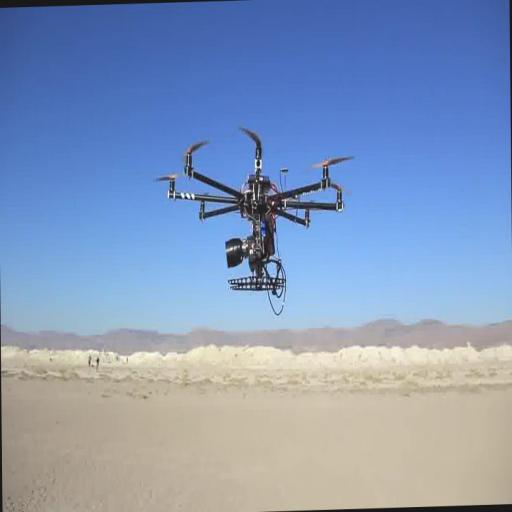drone: (157, 124, 355, 292)
